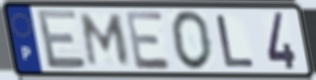4: (265, 10, 298, 72)
E: (34, 7, 89, 71), (123, 9, 174, 71)
L: (215, 13, 258, 69)
M: (79, 12, 132, 68)
O: (169, 9, 215, 72)
